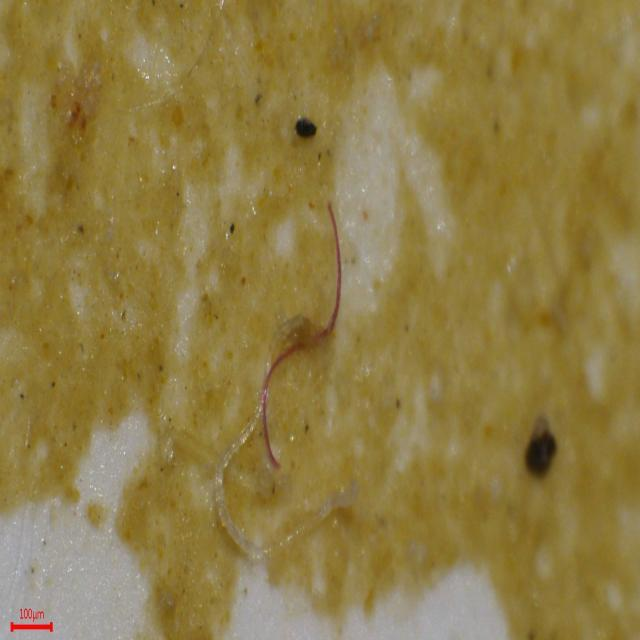fibers: (231, 200, 376, 469), (178, 402, 364, 587)
